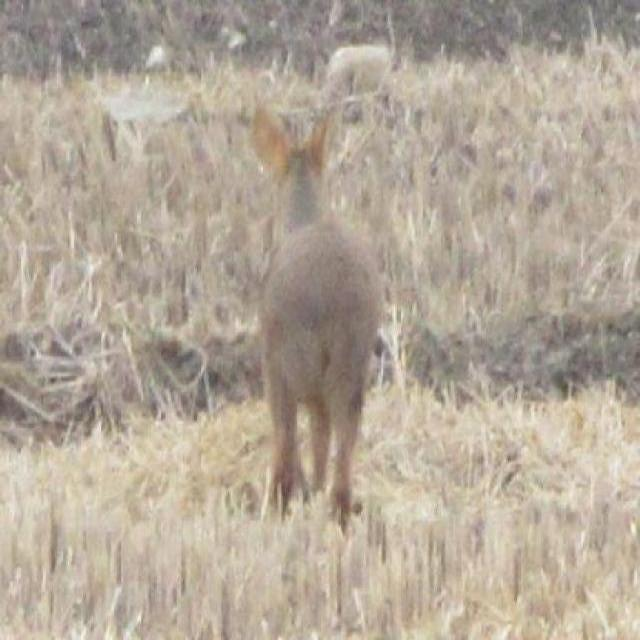deer: (238, 95, 374, 553)
